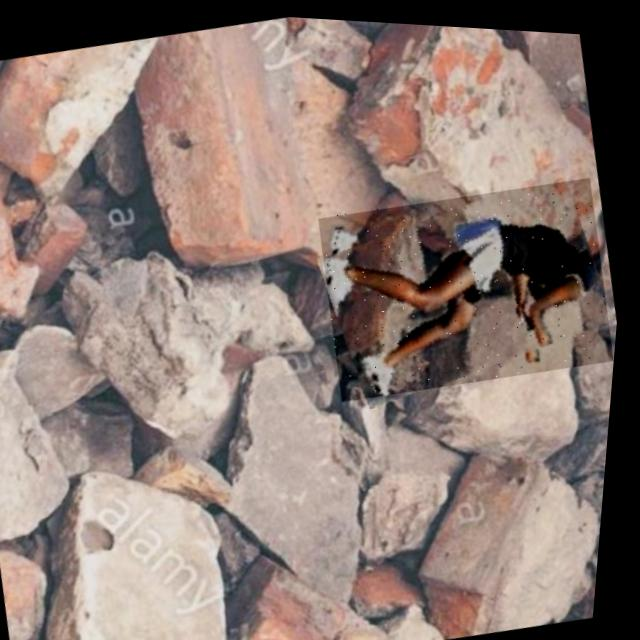Person in Rubble: (308, 156, 629, 409)
